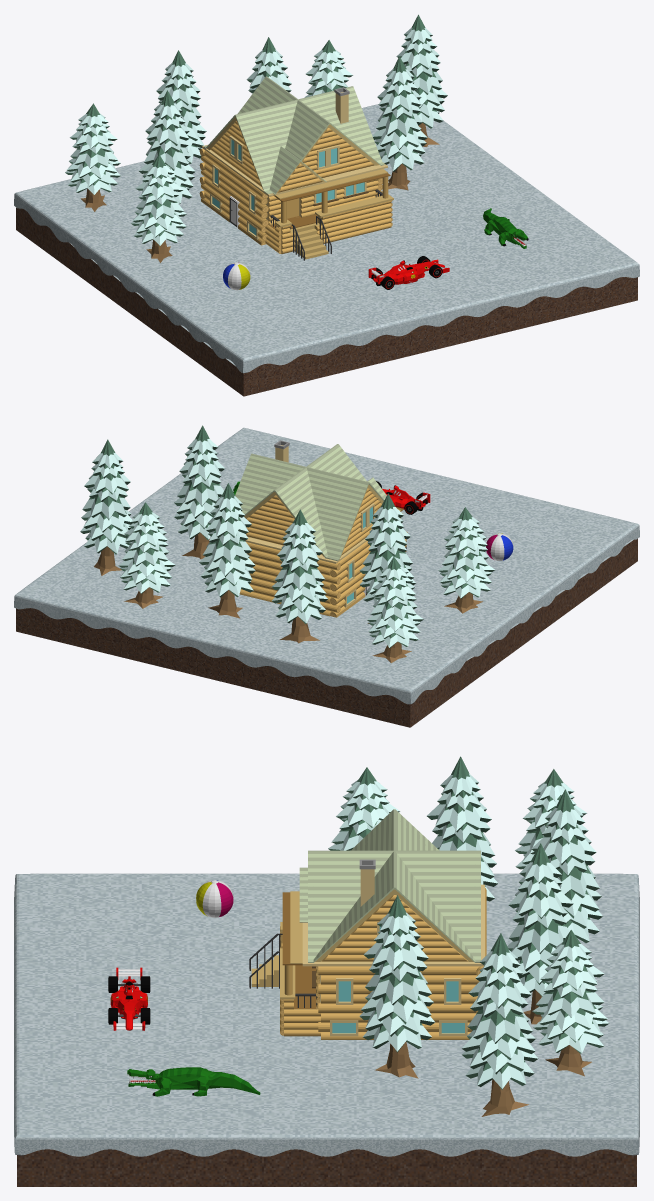
3 views of the same model, one above another, from view 1: azimuth 30°, elevation 25°; view 2: azimuth 150°, elevation 25°; view 3: azimuth 270°, elevation 25° (orthographic). The views are drawn at different scales.
Parts seen in each view (by area): view 1: Cube.003, Cube.1516, VEHICLES_FORMULA_1, ANIMAL_COCODRILO, OBJRANDOM_BEACHBALL; view 2: Cube.003, Cube.1516, VEHICLES_FORMULA_1, OBJRANDOM_BEACHBALL; view 3: Cube.003, Cube.1516, ANIMAL_COCODRILO, VEHICLES_FORMULA_1, OBJRANDOM_BEACHBALL.
Boxes of the visible parts, x1=… form: Cube.003: x1=14, y1=14, x2=639, y2=396; Cube.1516: x1=199, y1=76, x2=393, y2=260; VEHICLES_FORMULA_1: x1=368, y1=256, x2=449, y2=289; ANIMAL_COCODRILO: x1=483, y1=208, x2=528, y2=248; OBJRANDOM_BEACHBALL: x1=223, y1=262, x2=250, y2=290; Cube.003: x1=14, y1=425, x2=639, y2=727; Cube.1516: x1=235, y1=440, x2=407, y2=617; VEHICLES_FORMULA_1: x1=376, y1=481, x2=430, y2=514; OBJRANDOM_BEACHBALL: x1=486, y1=533, x2=513, y2=560; Cube.003: x1=14, y1=756, x2=639, y2=1186; Cube.1516: x1=249, y1=809, x2=486, y2=1039; ANIMAL_COCODRILO: x1=127, y1=1067, x2=260, y2=1096; VEHICLES_FORMULA_1: x1=108, y1=967, x2=150, y2=1030; OBJRANDOM_BEACHBALL: x1=196, y1=880, x2=233, y2=917.
Size of the model in its own units: 4040 by 1700 by 4040.
Materials: 37 (4 with a texture image).
